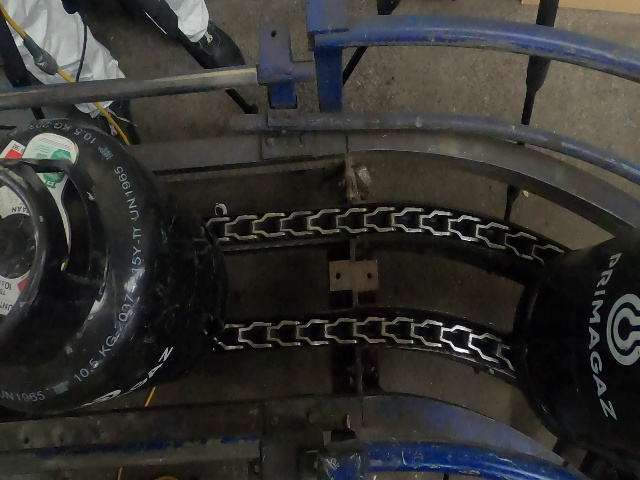gas_bottle: (16, 4, 627, 480)
